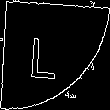L_N: (39, 29, 71, 81)
